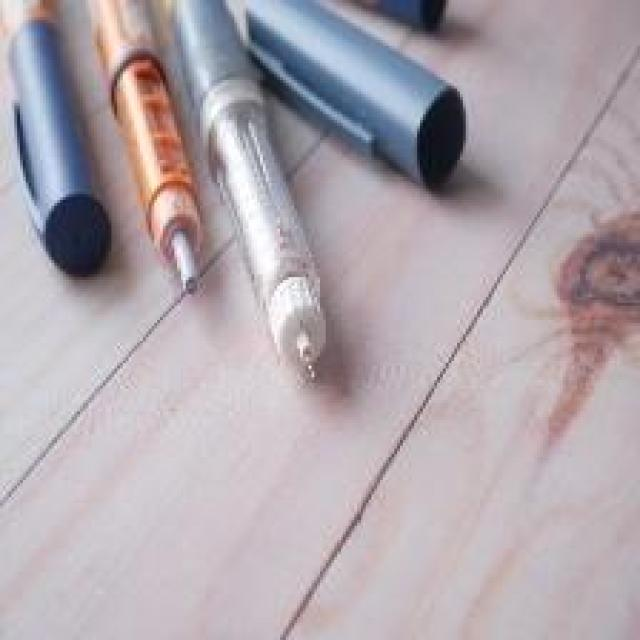syringe: (80, 0, 337, 406)
